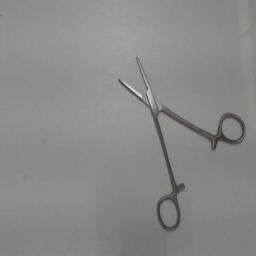Mayo Needle Holder: (112, 44, 248, 234)
